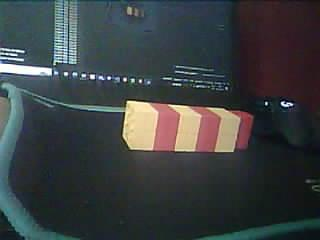lego: (121, 99, 256, 153)
